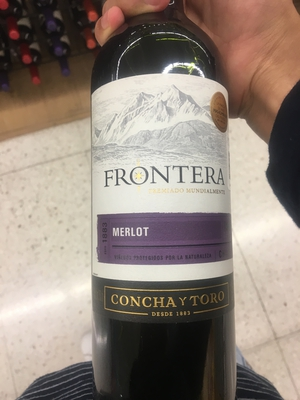frontera merlot: (80, 14, 252, 400)
